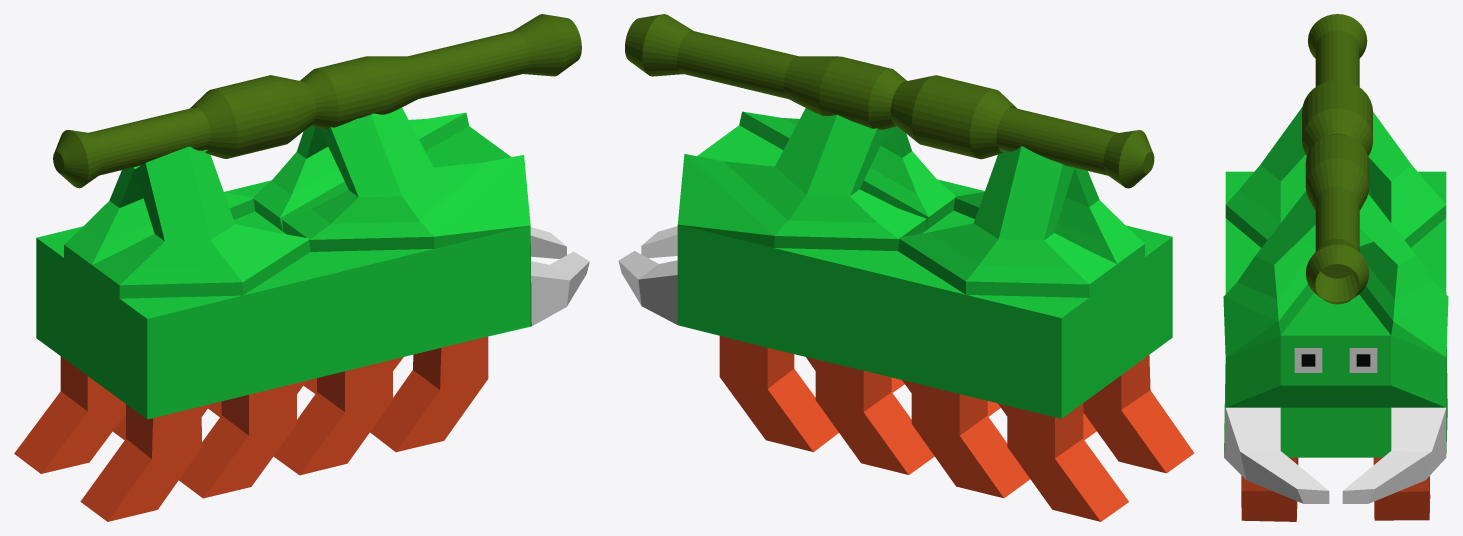
The model's file is BigEnemy.fbx.
3 views of the same model, side by side, from view 1: azimuth 30°, elevation 25°; view 2: azimuth 150°, elevation 25°; view 3: azimuth 270°, elevation 25° (orthographic).
Visible parts, largest first — view 1: Cube, Cylinder; view 2: Cube, Cylinder; view 3: Cube, Cylinder.
Boxes of the visible parts, x1=… form: Cube: x1=14, y1=107, x2=589, y2=521; Cylinder: x1=53, y1=14, x2=581, y2=188; Cube: x1=618, y1=108, x2=1194, y2=521; Cylinder: x1=625, y1=14, x2=1154, y2=188; Cube: x1=1223, y1=107, x2=1448, y2=521; Cylinder: x1=1302, y1=14, x2=1372, y2=304.
Size of the model in its own units: 53.29 by 35.48 by 20.39.
